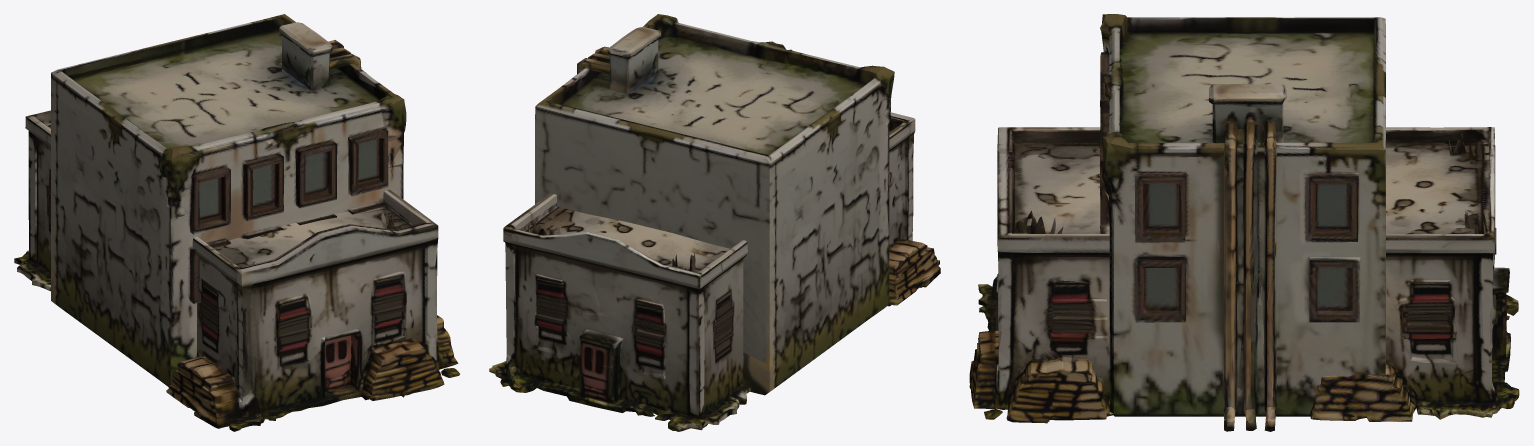
File: ruined+buils+3d+model.fbx
3 views of the same model, side by side, from view 1: azimuth 30°, elevation 25°; view 2: azimuth 150°, elevation 25°; view 3: azimuth 270°, elevation 25° (orthographic). The views are drawn at different scales.
Parts seen in each view (by area): view 1: building1, building2; view 2: building1, building2; view 3: building1, building2.
Part boxes in pixels (x1=…): building1: x1=51, y1=14, x2=406, y2=386; building2: x1=14, y1=110, x2=459, y2=431; building1: x1=535, y1=14, x2=894, y2=395; building2: x1=489, y1=112, x2=940, y2=431; building1: x1=1099, y1=14, x2=1385, y2=431; building2: x1=969, y1=127, x2=1519, y2=423.
Size of the model in its own units: 37.18 by 36.97 by 58.75.
